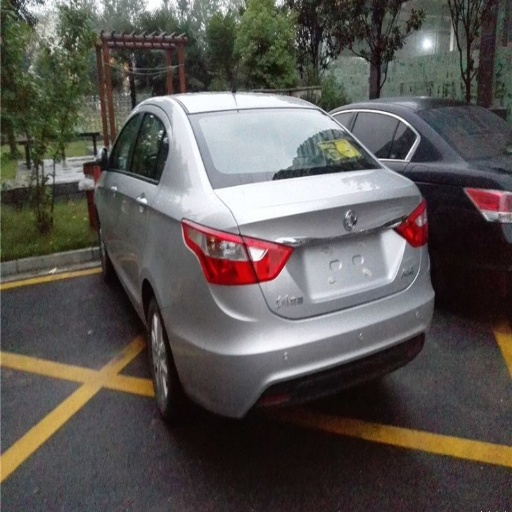back_bumper: (158, 244, 435, 418)
back_glass: (190, 108, 380, 186), (451, 112, 509, 155)
back_left_door: (120, 179, 150, 260)
